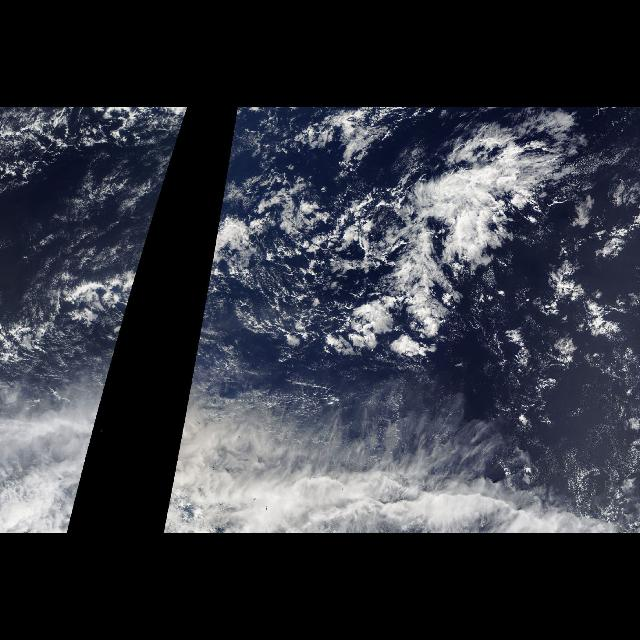Fish: (350, 127, 570, 357)
Gravel: (237, 186, 369, 350)
Sugar: (42, 142, 178, 286), (562, 378, 640, 514)
